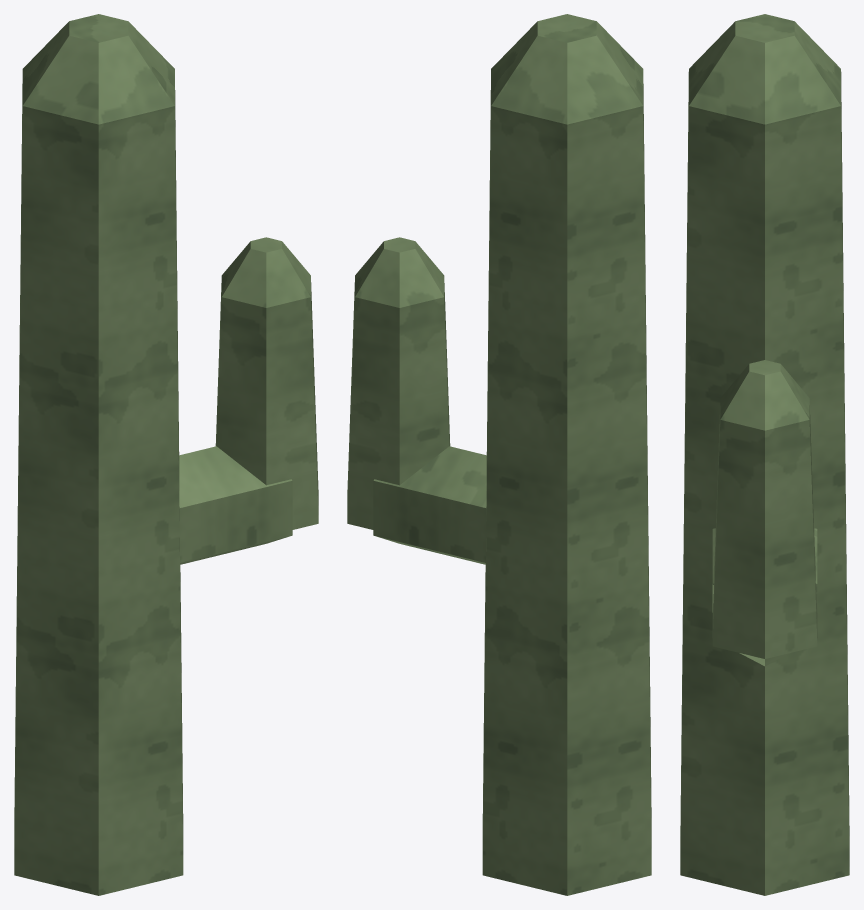
File: cactus_b.glb
3 views of the same model, side by side, from view 1: azimuth 30°, elevation 25°; view 2: azimuth 150°, elevation 25°; view 3: azimuth 270°, elevation 25° (orthographic).
Visible parts, largest first — view 1: CactusB; view 2: CactusB; view 3: CactusB.
Part boxes in pixels (x1,y1,x2,y2): CactusB: (14,14,318,895); CactusB: (347,14,651,895); CactusB: (680,14,849,895).
Size of the model in its own units: 0.7561 by 1.96 by 0.3637.
1 material, 1 textured.
